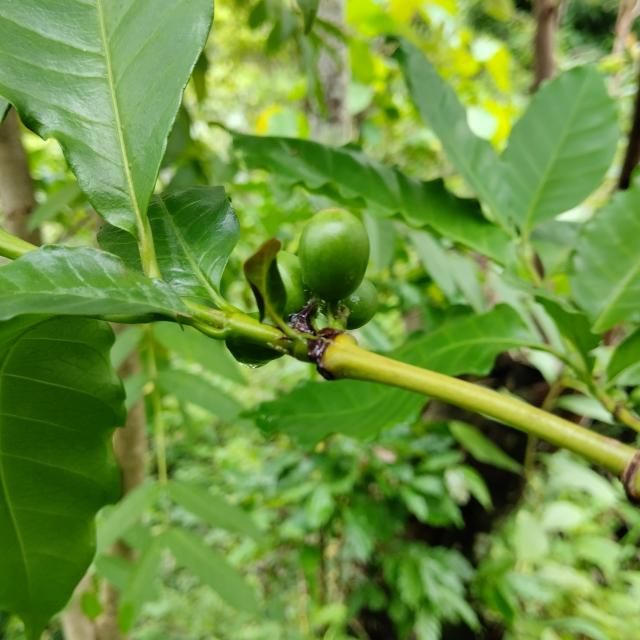green: (298, 207, 370, 302), (277, 250, 310, 319), (342, 278, 379, 330), (225, 340, 284, 368)
